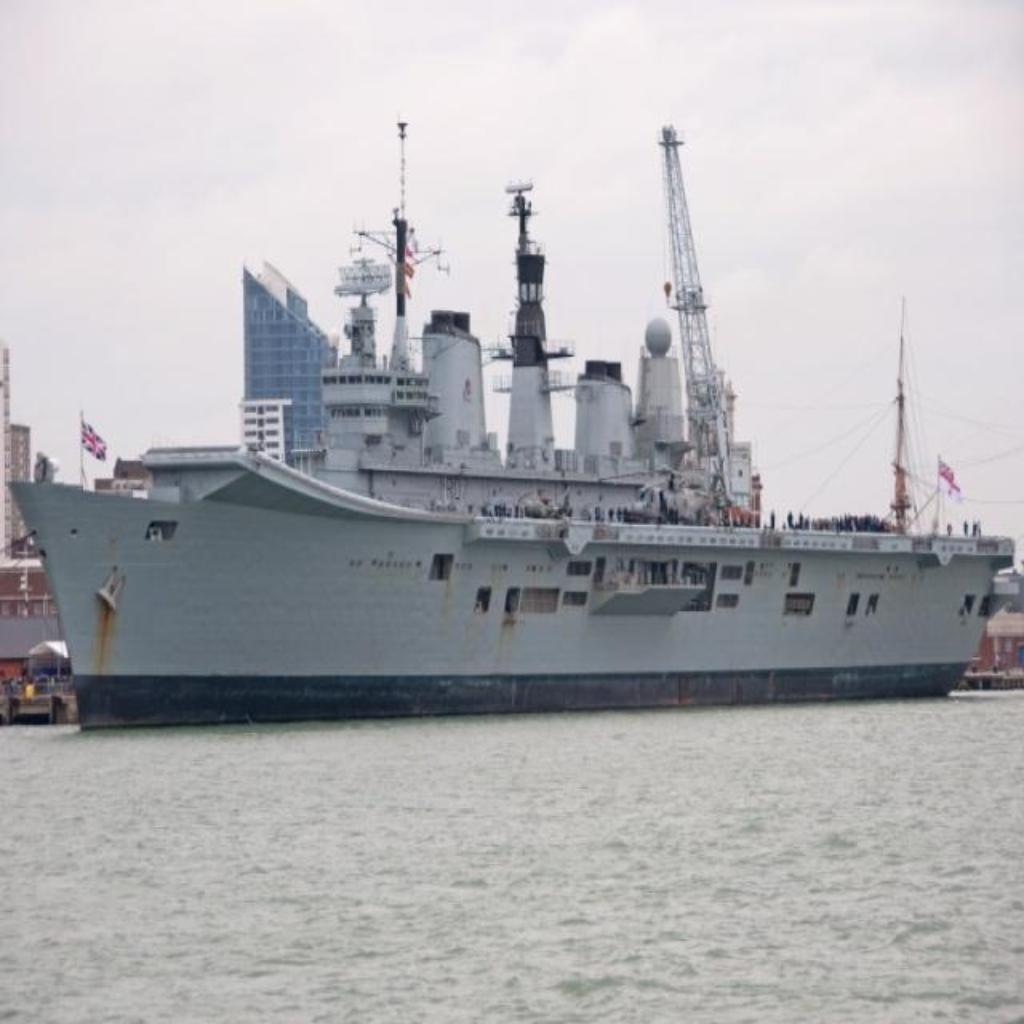Warship: (2, 170, 1016, 738)
